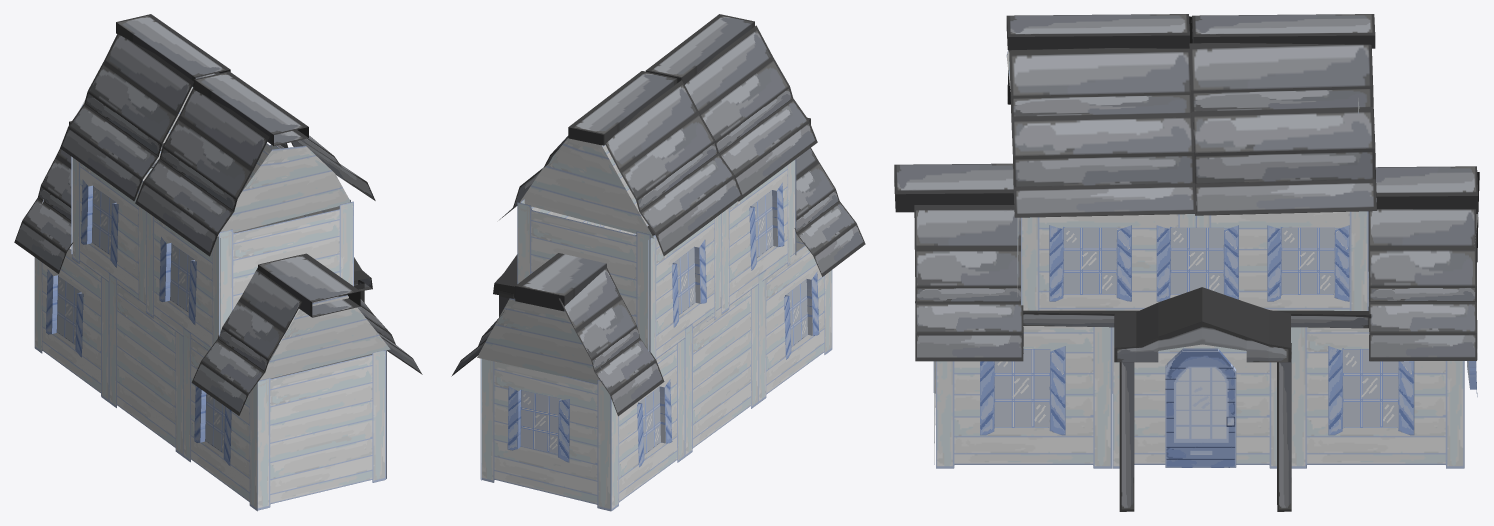
Rendered from Player_House_Textures.fbx.
3 views of the same model, side by side, from view 1: azimuth 30°, elevation 25°; view 2: azimuth 150°, elevation 25°; view 3: azimuth 270°, elevation 25° (orthographic). The views are drawn at different scales.
Parts seen in each view (by area): view 1: Plane.005, Plane.022, Plane.004, Plane.008, Plane.026, Plane.012, Plane.035, Plane.007, Plane.009, Plane.031, Plane.010, Plane.011 (+10 smaller); view 2: Plane.004, Plane.006, Plane.022, Plane.008, Plane.013, Plane.027, Plane.033, Plane.009, Plane.032, Plane.010, Plane.007, Plane.011 (+10 smaller); view 3: Plane.021, Plane.020, Plane.025, Plane.034, Plane.001, Plane.002, Plane.040, Plane, Plane.014, Plane.003, Plane.023, Plane.016 (+12 smaller).
Part boxes in pixels (left/top/right/bottom): Plane.005: left=257, top=350, right=386, bottom=510; Plane.022: left=135, top=86, right=269, bottom=256; Plane.004: left=60, top=34, right=194, bottom=200; Plane.008: left=109, top=273, right=183, bottom=456; Plane.026: left=192, top=268, right=302, bottom=415; Plane.012: left=219, top=201, right=353, bottom=344; Plane.035: left=217, top=146, right=349, bottom=236; Plane.007: left=34, top=248, right=108, bottom=402; Plane.009: left=183, top=327, right=257, bottom=511; Plane.031: left=259, top=295, right=390, bottom=380; Plane.010: left=146, top=211, right=220, bottom=350; Plane.011: left=72, top=157, right=145, bottom=304; Plane.004: left=605, top=80, right=742, bottom=255; Plane.006: left=480, top=359, right=611, bottom=511; Plane.022: left=685, top=25, right=817, bottom=201; Plane.008: left=685, top=284, right=758, bottom=457; Plane.013: left=517, top=202, right=650, bottom=352; Plane.027: left=559, top=268, right=664, bottom=416; Plane.033: left=519, top=138, right=653, bottom=238; Plane.009: left=758, top=245, right=832, bottom=403; Plane.032: left=477, top=298, right=601, bottom=383; Plane.010: left=721, top=159, right=795, bottom=314; Plane.007: left=611, top=338, right=684, bottom=510; Plane.011: left=648, top=213, right=721, bottom=359; Plane.021: left=1189, top=43, right=1377, bottom=215; Plane.020: left=1009, top=48, right=1196, bottom=217; Plane.025: left=914, top=205, right=1023, bottom=361; Plane.034: left=1368, top=209, right=1477, bottom=361; Plane.001: left=936, top=326, right=1111, bottom=468; Plane.002: left=1291, top=327, right=1464, bottom=468; Plane.040: left=1114, top=287, right=1290, bottom=362; Plane: left=1112, top=327, right=1276, bottom=468; Plane.014: left=1165, top=348, right=1236, bottom=467; Plane.003: left=1021, top=214, right=1196, bottom=310; Plane.023: left=1197, top=211, right=1368, bottom=310; Plane.016: left=1328, top=346, right=1414, bottom=435.
Size of the model in its own units: 324 by 496 by 632.
Materials: 46 (46 with a texture image).
